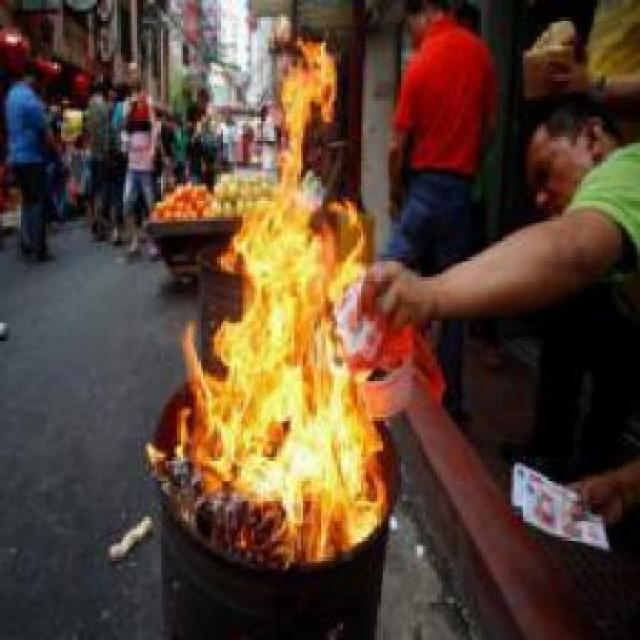Fire: (174, 41, 400, 556)
